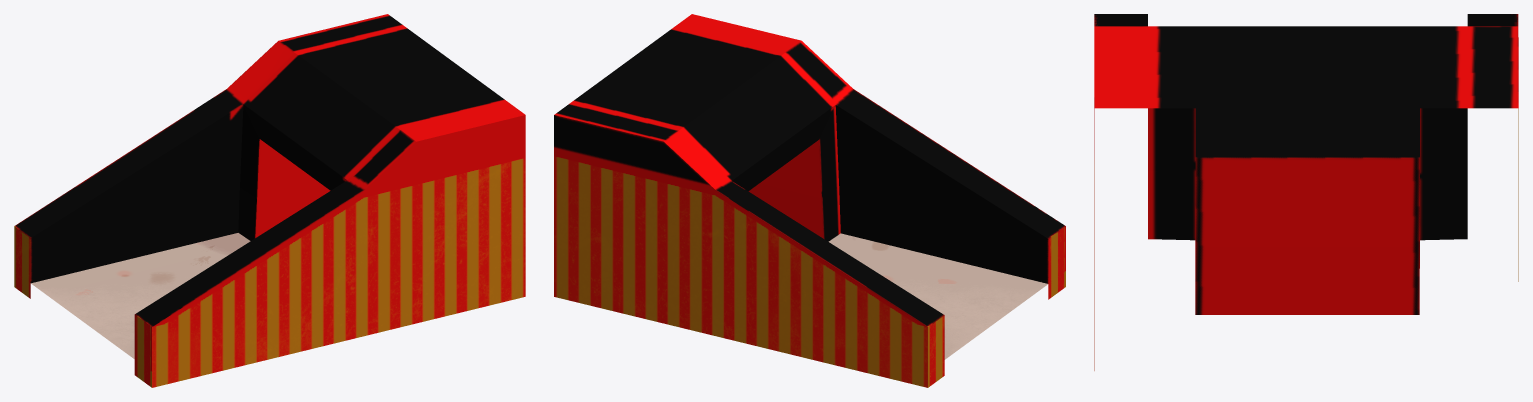
File: CircusTent_Entrance.fbx
The picture shows the model from 3 angles, left to right: view 1: azimuth 30°, elevation 25°; view 2: azimuth 150°, elevation 25°; view 3: azimuth 270°, elevation 25°; orthographic projection. The views are drawn at different scales.
Visible parts, largest first — view 1: Entrance; view 2: Entrance; view 3: Entrance.
Part boxes in pixels (box(x1,y1,x2,y2)): Entrance: box(14, 14, 525, 387); Entrance: box(554, 14, 1065, 387); Entrance: box(1094, 14, 1518, 370).
Bounding box in the file's own units: 756 × 351 × 484.
Materials: 1 (1 with a texture image).
